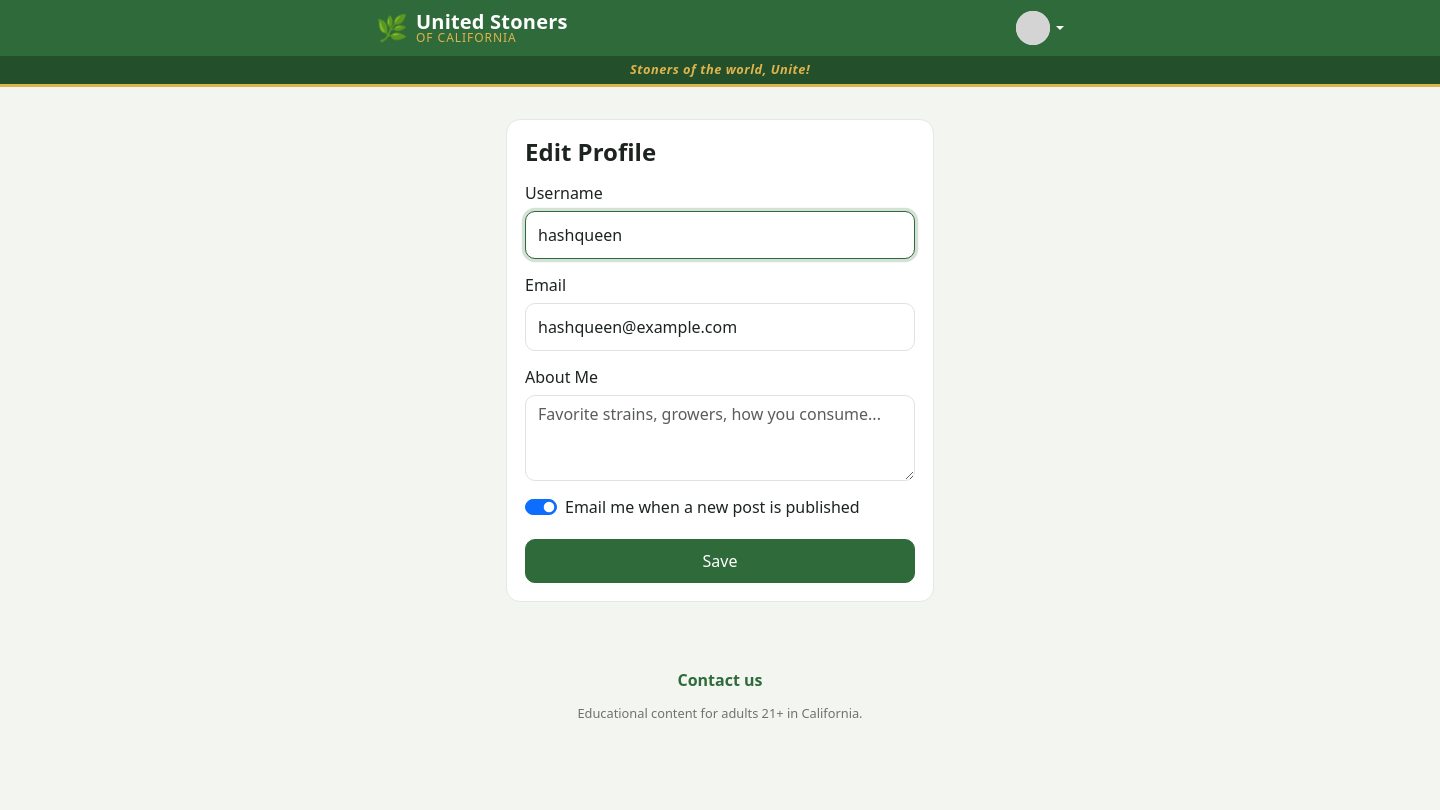
Test case: new post emails › members can turn new-post emails off under Edit profile
This screenshot has width=1440, height=810.
Click the checkbox labelled "Email me when a new post is published": (541, 507) [525, 499, 557, 515]
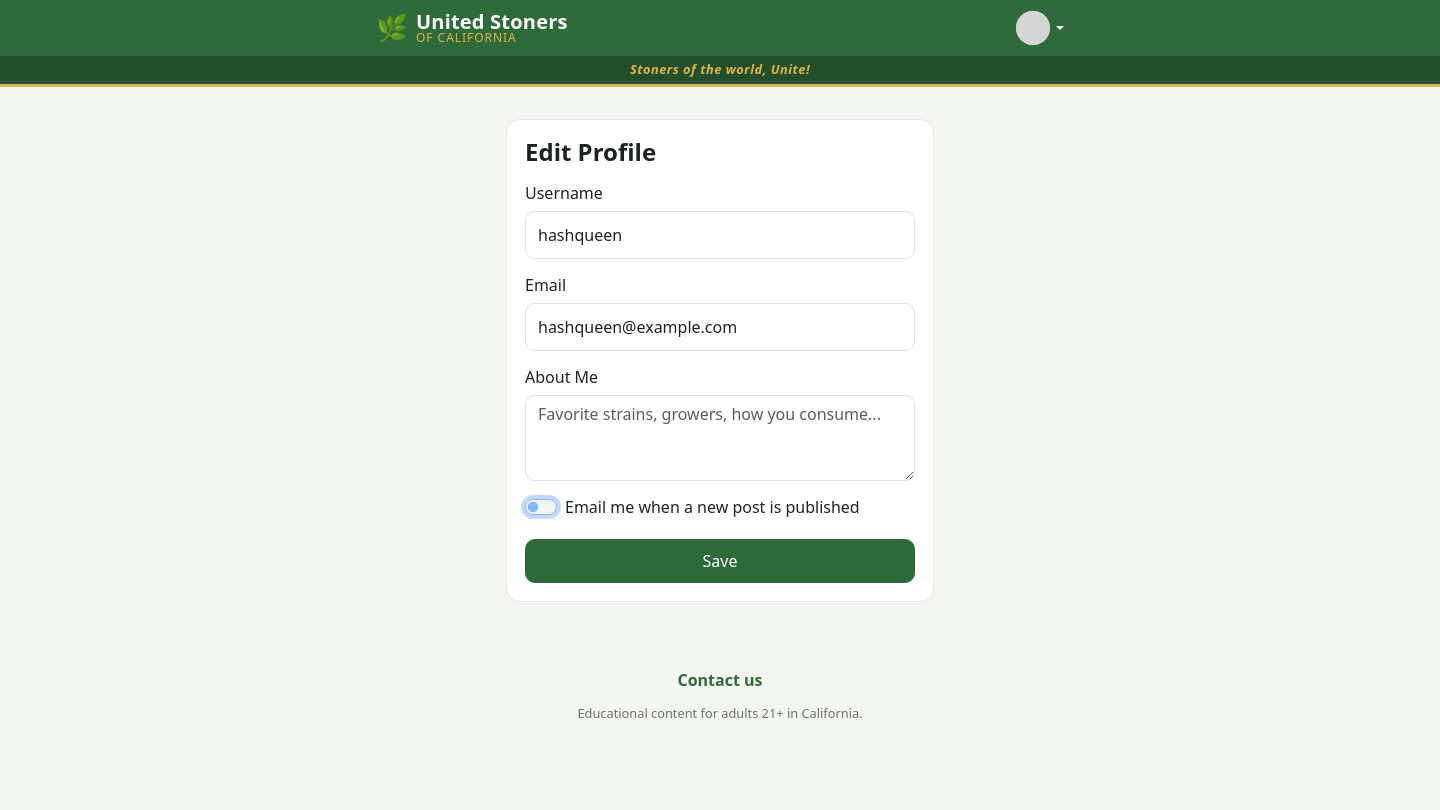
Click the button "Save": (720, 561) [525, 539, 915, 583]
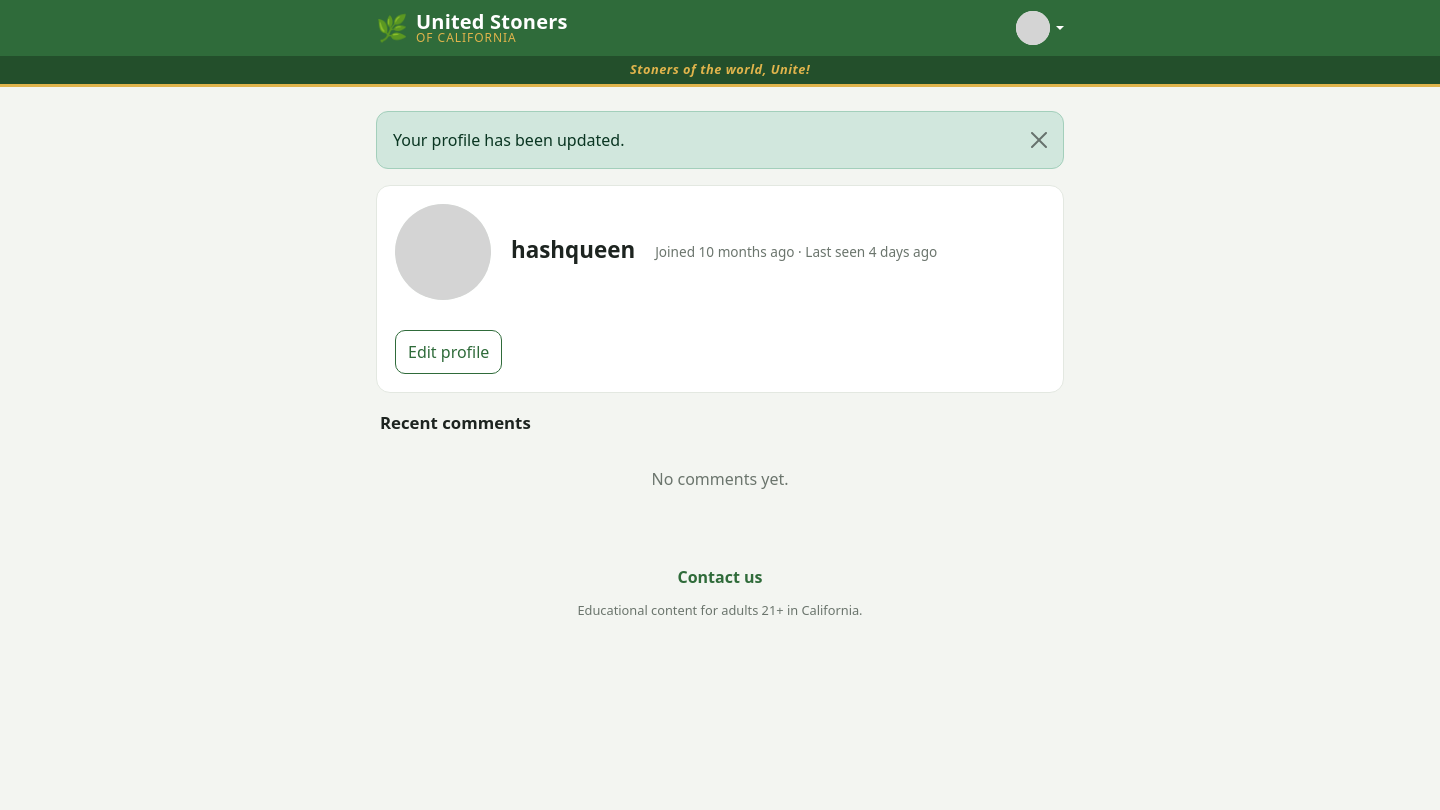
Result: the text "Your profile has been updated." is shown at [376, 111, 1064, 169]
